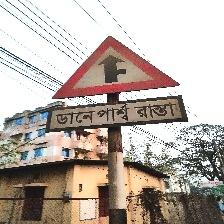Side-road-right: (48, 35, 186, 133)
